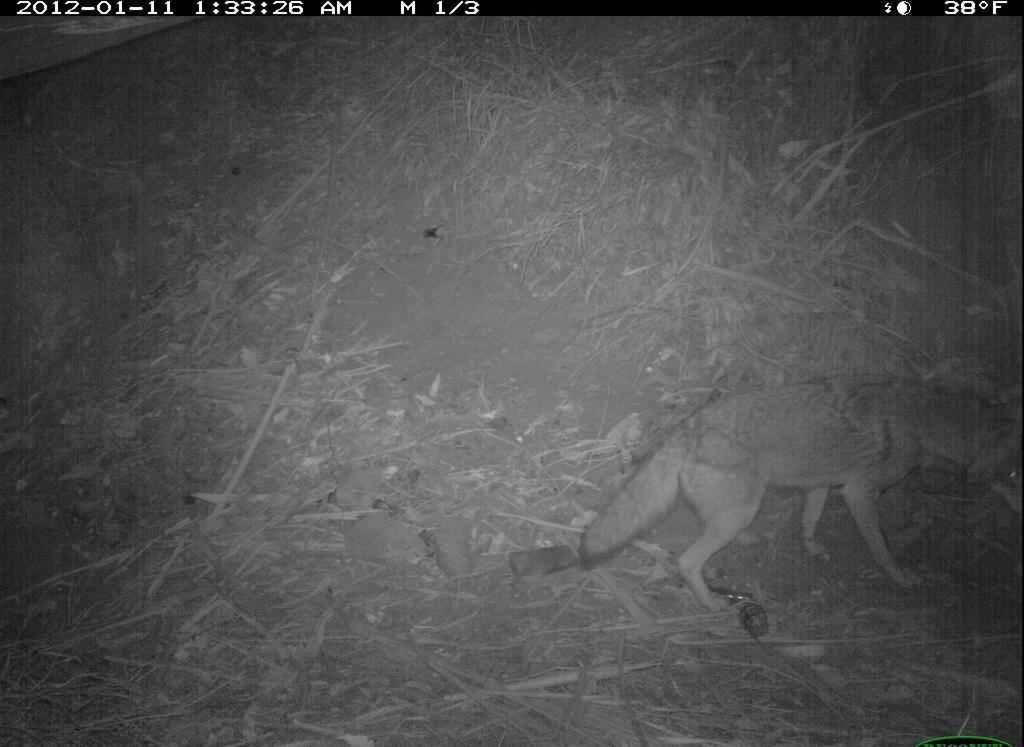coyote: (583, 264, 1022, 651)
